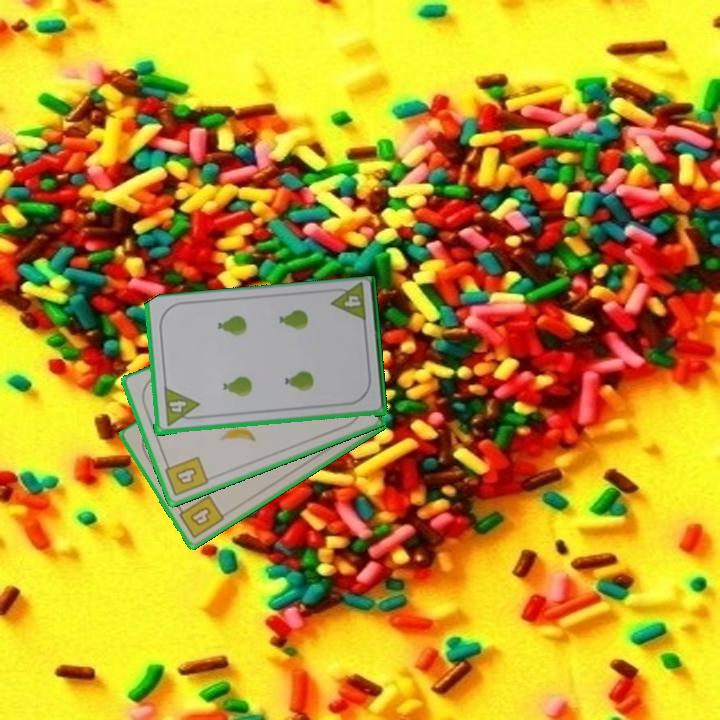4b: (173, 492, 227, 542), (161, 453, 211, 500)
4p: (326, 281, 369, 326), (160, 385, 202, 429)
